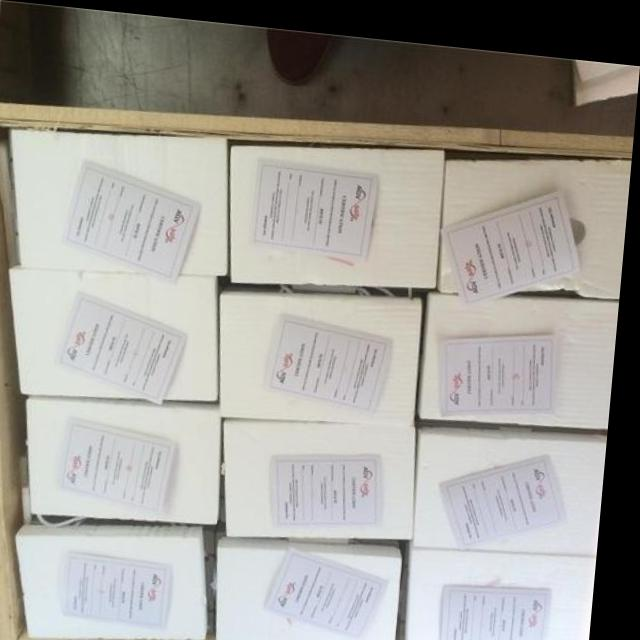box: (10, 127, 232, 270), (232, 140, 446, 281), (442, 146, 633, 297), (12, 267, 224, 398), (426, 281, 622, 417), (226, 285, 427, 417), (422, 408, 614, 541), (34, 394, 229, 519), (231, 414, 427, 531), (26, 519, 218, 637), (226, 530, 411, 640), (417, 538, 606, 640)
